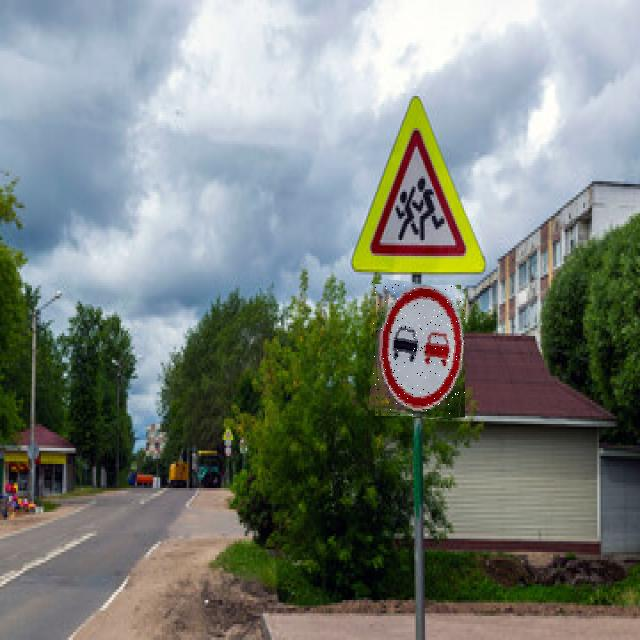no overtaking: (372, 282, 465, 418)
